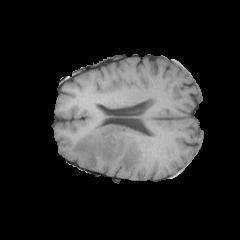glioma: (71, 124, 149, 172)
